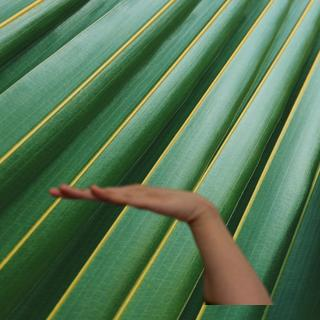WAIT: (45, 175, 207, 224)
